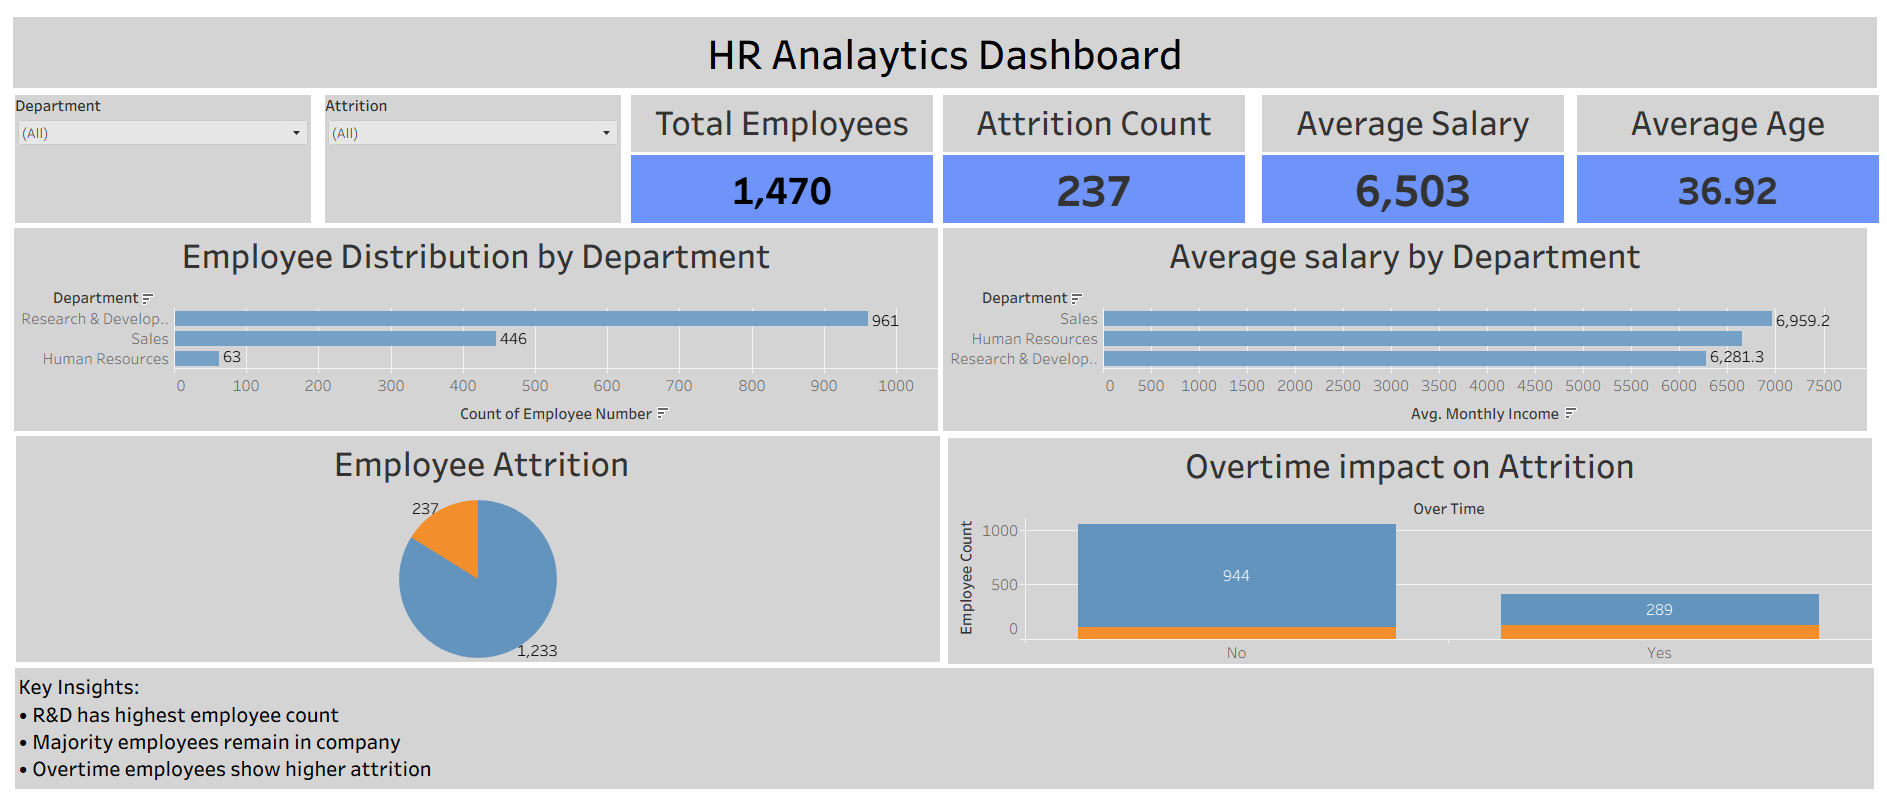

The page's visual inventory and layout, read from the dashboard file:
{"tool":"tableau","page":{"name":"Dashboard 1","canvas":[1000,1000],"units":"permille","ordinal":0},"visuals":[{"type":"text","box":[6.6,21.2,987.3,88.6]},{"type":"filter","title":"Employees by Department","param":"[federated.1095rbu06bhlzo1cb9ltt17gsnqx].[none:Department:nk]","box":[7.9,118.6,156.9,159.8]},{"type":"filter","title":"Attrition by Employees","param":"[federated.1095rbu06bhlzo1cb9ltt17gsnqx].[none:Attrition:nk]","box":[172,118.6,156.9,159.8]},{"type":"worksheet","title":"Sheet 5","mark":"Automatic","box":[334.3,118.6,159.9,159.8]},{"type":"worksheet","title":"Sheet 6","mark":"Automatic","box":[499.7,118.6,159.9,159.8]},{"type":"worksheet","title":"Sheet 7","mark":"Automatic","box":[668.7,118.6,159.9,159.8]},{"type":"worksheet","title":"Sheet 8","mark":"Automatic","box":[835.2,118.6,159.9,159.8]},{"type":"worksheet","title":"Employees by Department","mark":"Automatic","rows":["Department"],"cols":["EmployeeNumber"],"box":[7.2,284.6,489.4,253.4]},{"type":"worksheet","title":"Avg salary by Department","mark":"Automatic","rows":["Department"],"cols":["MonthlyIncome"],"box":[499.7,284.6,489.4,253.4]},{"type":"worksheet","title":"Attrition by Employees","mark":"Pie","box":[8.4,544.3,489.4,282.2]},{"type":"worksheet","title":"Overtime vs Attrition","mark":"Automatic","rows":["EmployeeNumber"],"cols":["OverTime"],"box":[502.1,546.8,489.4,282.2]},{"type":"text","box":[7.9,834,984.9,151.1]}]}

Visuals, with their boxes on the dashboard's canvas, which has no fixed pixel size, in thousandths of its width and height (x1, y1, x2, y2). These are canvas units, not pixel positions in the 1887x797 screenshot, which may show the page scaled, cropped or inside an application window:
text: <bbox>7, 21, 994, 110</bbox>
"Employees by Department" filter: <bbox>8, 119, 165, 278</bbox>
"Attrition by Employees" filter: <bbox>172, 119, 329, 278</bbox>
"Sheet 5" worksheet: <bbox>334, 119, 494, 278</bbox>
"Sheet 6" worksheet: <bbox>500, 119, 660, 278</bbox>
"Sheet 7" worksheet: <bbox>669, 119, 829, 278</bbox>
"Sheet 8" worksheet: <bbox>835, 119, 995, 278</bbox>
"Employees by Department" worksheet: <bbox>7, 285, 497, 538</bbox>
"Avg salary by Department" worksheet: <bbox>500, 285, 989, 538</bbox>
"Attrition by Employees" worksheet (Pie marks): <bbox>8, 544, 498, 826</bbox>
"Overtime vs Attrition" worksheet: <bbox>502, 547, 992, 829</bbox>
text: <bbox>8, 834, 993, 985</bbox>
